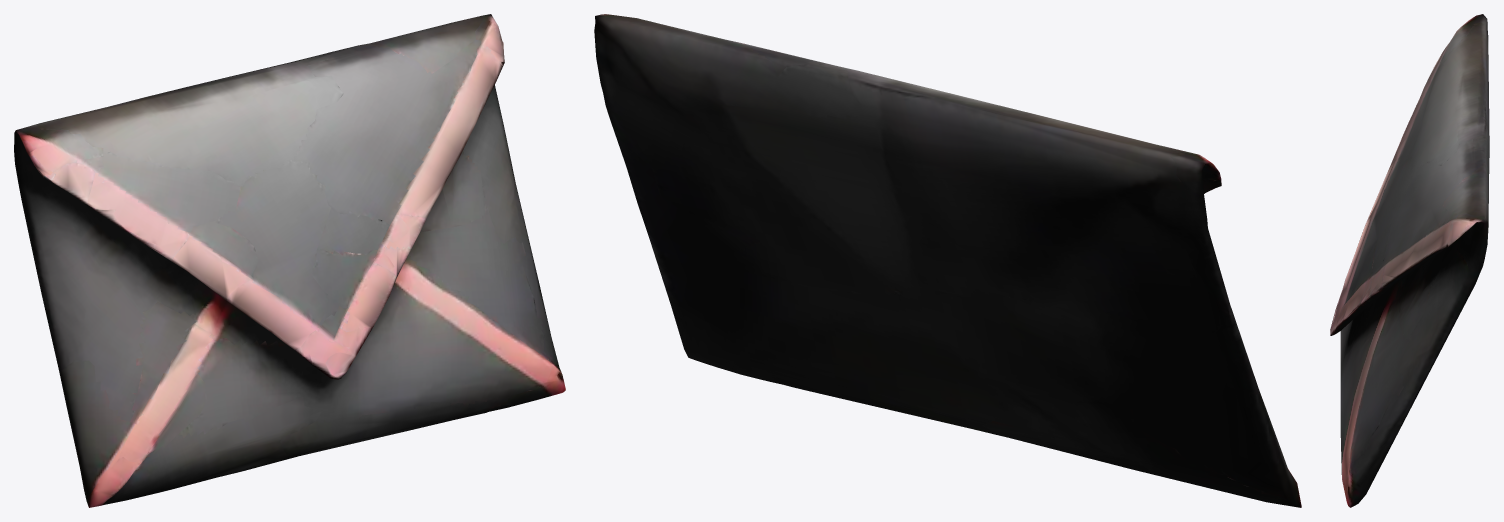
File: email-node.glb
The picture shows the model from 3 angles, left to right: view 1: azimuth 30°, elevation 25°; view 2: azimuth 150°, elevation 25°; view 3: azimuth 270°, elevation 25°; orthographic projection. The views are drawn at different scales.
Visible parts, largest first — view 1: model; view 2: model; view 3: model.
Boxes of the visible parts, x1,y1,x2,y2 form: model: [14, 14, 565, 507]; model: [594, 14, 1301, 507]; model: [1330, 14, 1489, 507].
Size of the model in its own units: 1.77 by 1.15 by 0.5748.
Materials: 1 (1 with a texture image).
